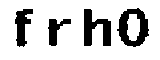0: (117, 5, 150, 49)
f: (10, 5, 37, 54)
h: (77, 6, 115, 53)
r: (42, 14, 74, 50)
